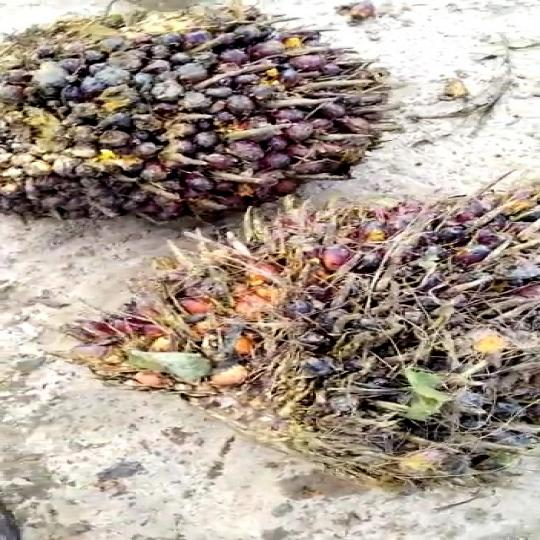kurang masak: (99, 176, 540, 490), (0, 0, 377, 232)
